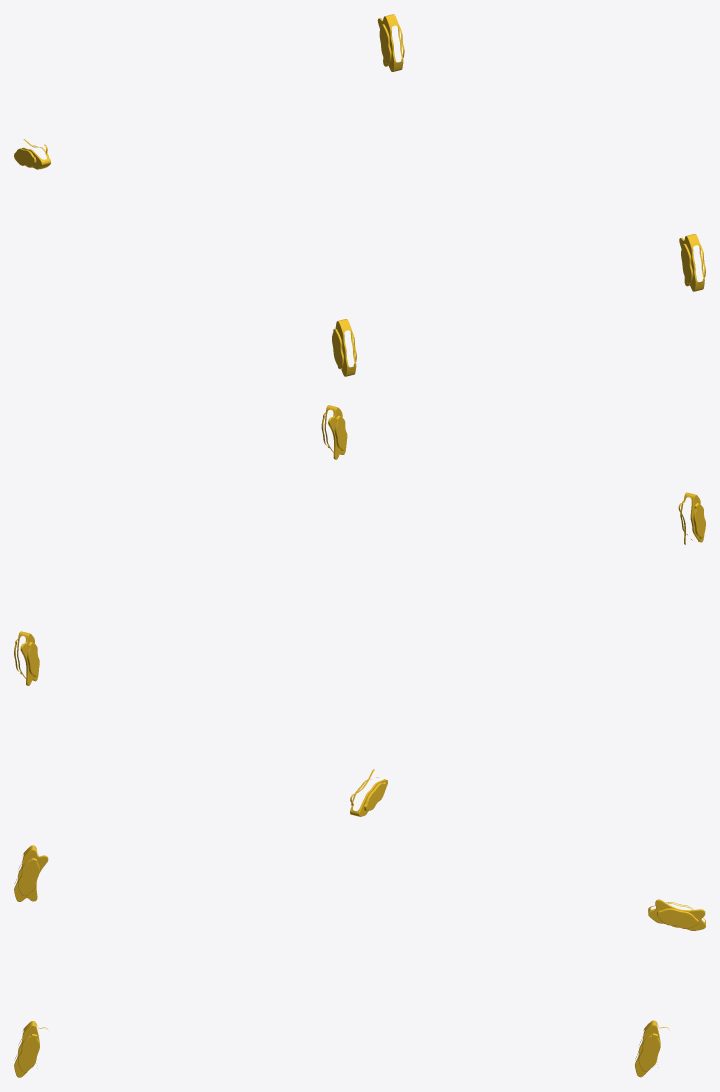
Rendered from Calipers_Yellow.glb.
3 views of the same model, one above another, from view 1: azimuth 30°, elevation 25°; view 2: azimuth 150°, elevation 25°; view 3: azimuth 270°, elevation 25° (orthographic). The views are drawn at different scales.
Visible parts, largest first — view 1: WheelRearRBrakePad, WheelFrontRBrakePad, WheelRearLBrakePad, WheelFrontLBrakePad; view 2: WheelRearRBrakePad, WheelFrontRBrakePad, WheelRearLBrakePad, WheelFrontLBrakePad; view 3: WheelFrontLBrakePad, WheelRearLBrakePad, WheelFrontRBrakePad, WheelRearRBrakePad.
Part boxes in pixels (x1,y1,x2,y2): WheelRearRBrakePad: [679, 234, 705, 291]; WheelFrontRBrakePad: [377, 14, 404, 71]; WheelRearLBrakePad: [332, 319, 356, 376]; WheelFrontLBrakePad: [14, 139, 50, 169]; WheelRearRBrakePad: [321, 405, 347, 459]; WheelFrontRBrakePad: [14, 631, 39, 685]; WheelRearLBrakePad: [678, 492, 705, 544]; WheelFrontLBrakePad: [350, 769, 387, 816]; WheelFrontLBrakePad: [648, 899, 705, 930]; WheelRearLBrakePad: [14, 845, 48, 901]; WheelFrontRBrakePad: [635, 1020, 668, 1077]; WheelRearRBrakePad: [14, 1021, 47, 1077].
Size of the model in its own units: 1.96 by 0.4025 by 3.12.
